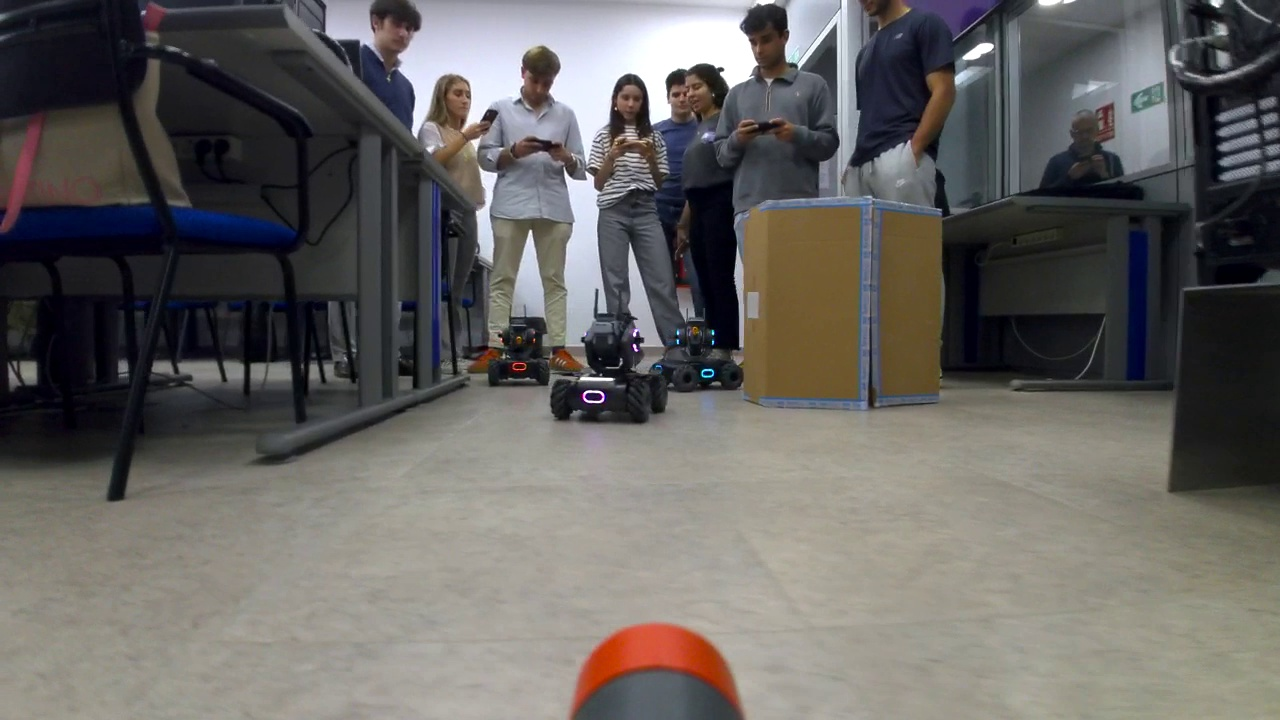robot: (556, 310, 666, 423), (656, 315, 745, 386), (488, 318, 553, 386)
